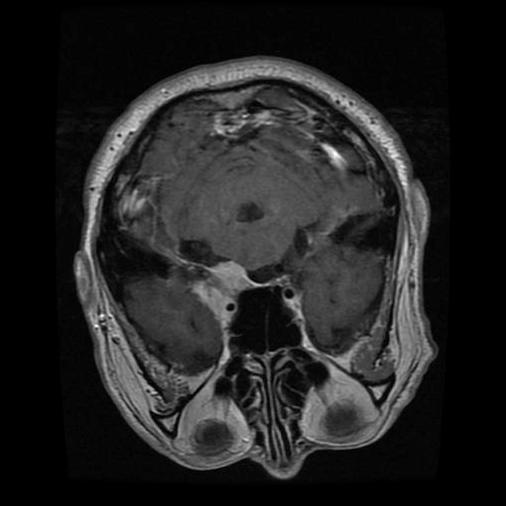Tumour-Pituitary: (185, 252, 268, 326)
